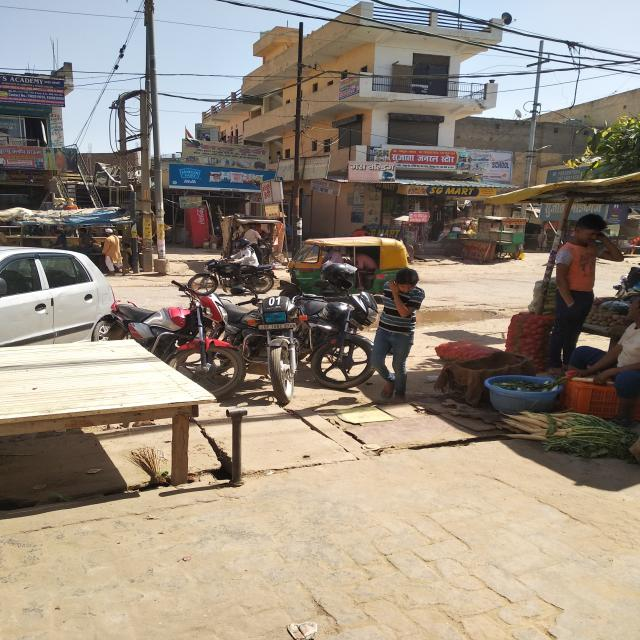Autorickshaw: (286, 233, 421, 302)
Bike: (100, 286, 248, 397), (214, 289, 310, 403), (288, 284, 385, 393), (186, 246, 276, 298)
Car: (0, 241, 123, 349)
